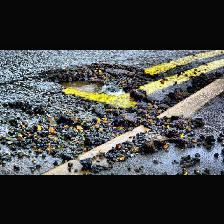pothole: (38, 60, 160, 92)
